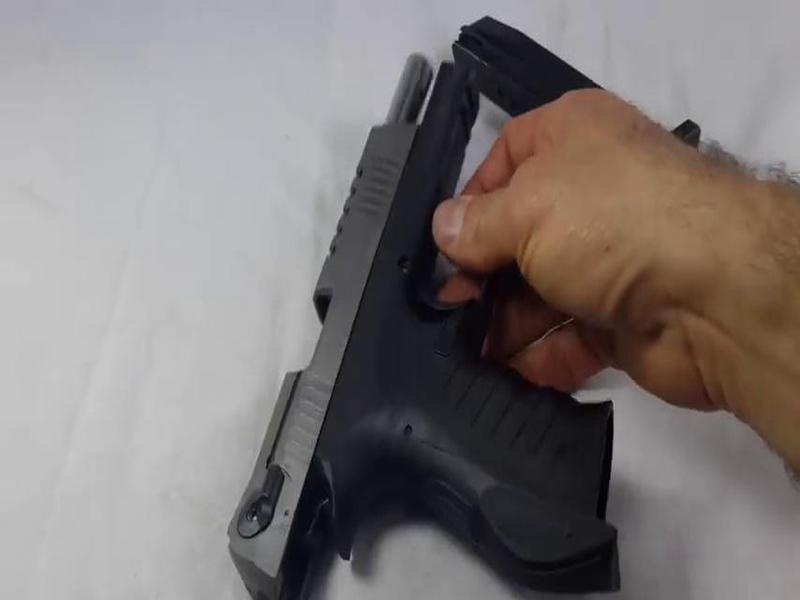Pistola: (212, 41, 619, 590)
